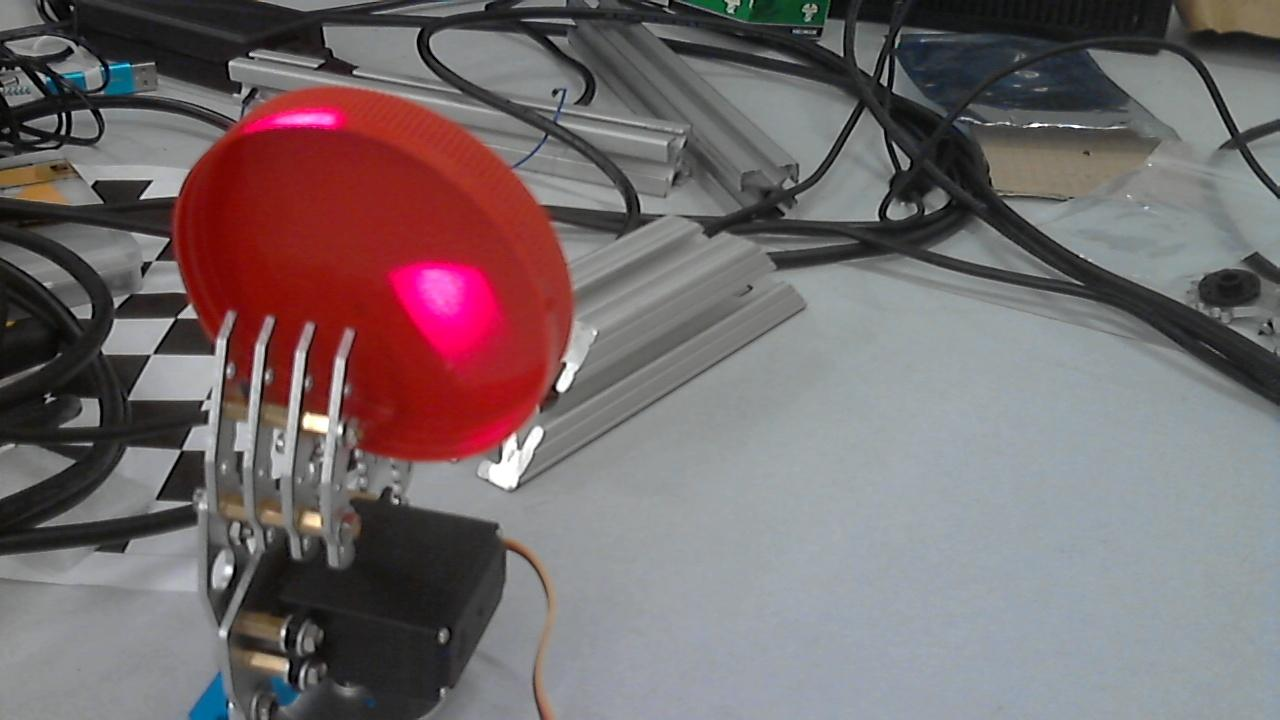Object plastic first aid kit - Material plastic -Color blue -Pdfname 6lew56E5S7E: (369, 247, 541, 475), (230, 108, 357, 155)
